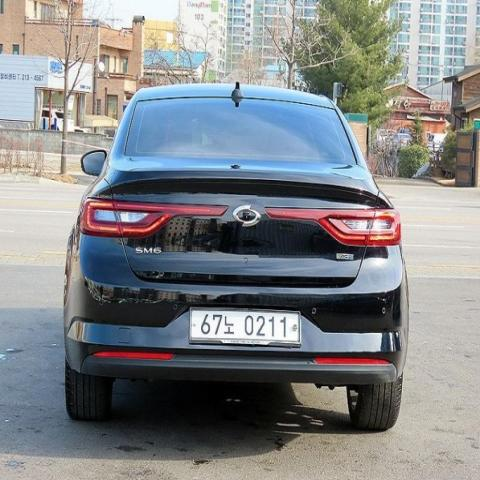LP: (183, 302, 304, 354)
